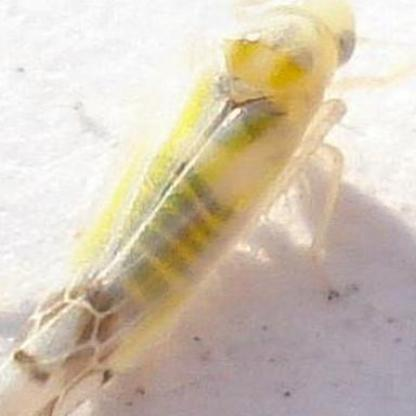green-leafhopper: (2, 0, 354, 416)
